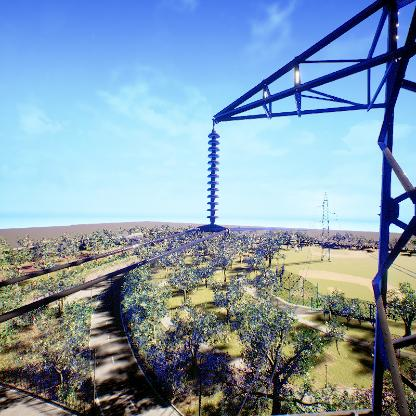insulator: (206, 130, 222, 221)
